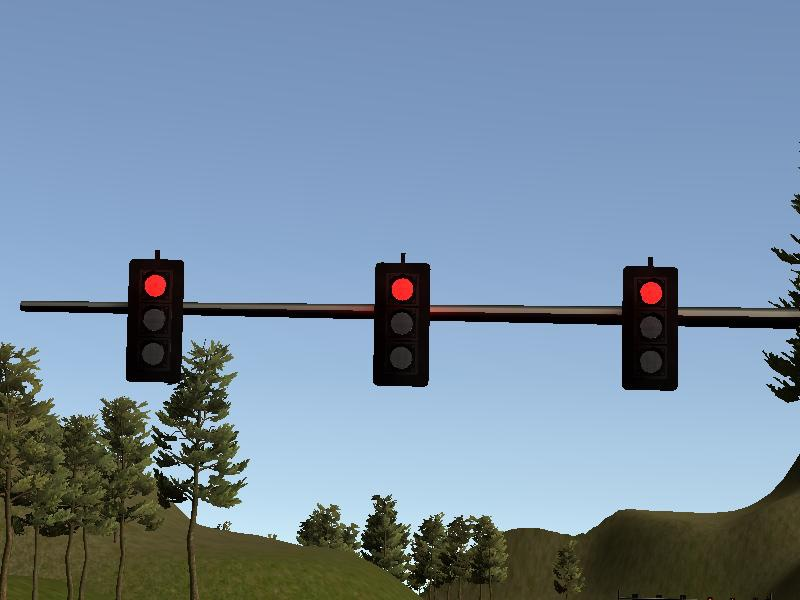Red: (617, 261, 684, 393), (371, 258, 434, 389), (123, 254, 185, 387)
